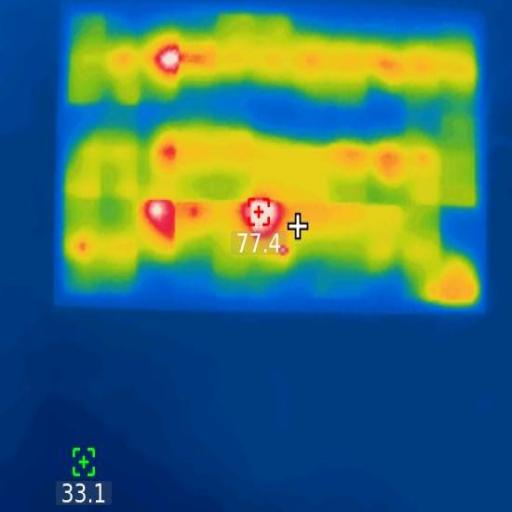hotspot: (242, 197, 287, 238), (146, 197, 178, 239), (158, 45, 180, 73)
